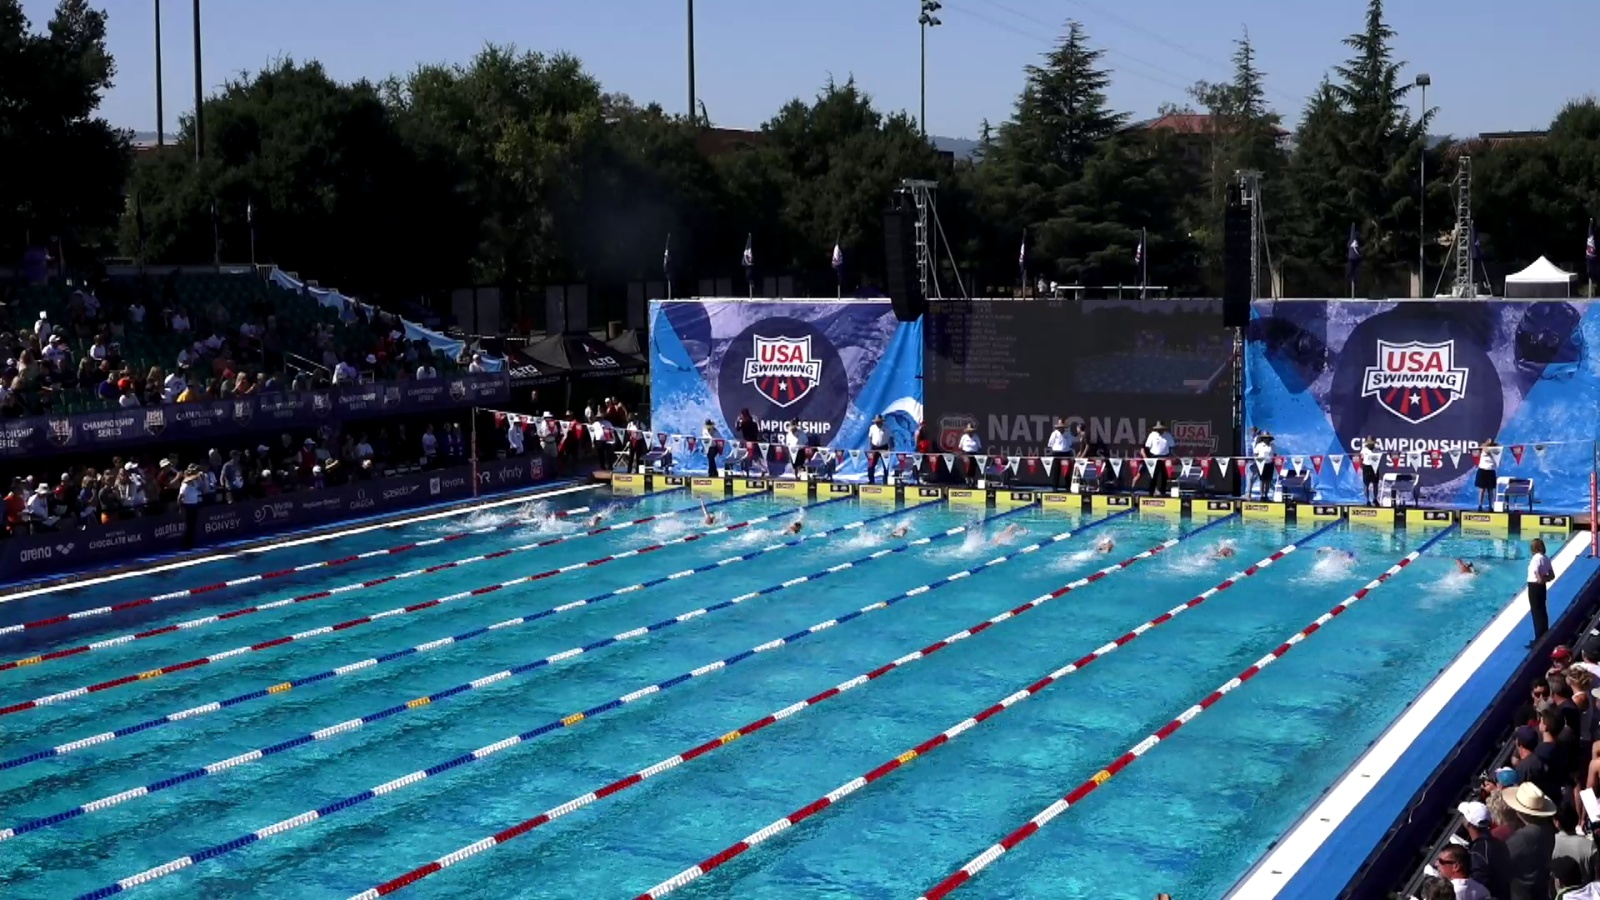swimmerw: (669, 502, 726, 536), (971, 522, 1031, 553), (1445, 553, 1484, 592), (1310, 547, 1353, 580), (749, 522, 804, 544), (869, 519, 915, 544), (1080, 533, 1116, 562), (562, 511, 608, 532), (1197, 546, 1238, 566), (495, 504, 538, 521)
